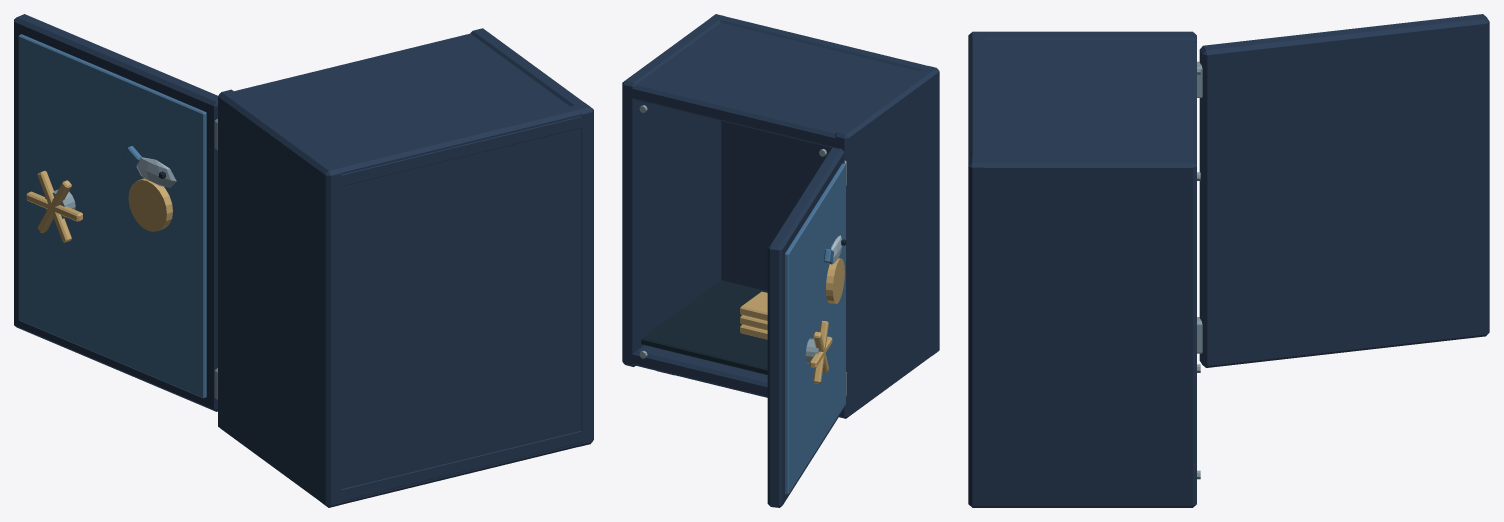
The model's file is token_vault_open.glb.
3 renders of one model, left to right at view 1: azimuth 30°, elevation 25°; view 2: azimuth 150°, elevation 25°; view 3: azimuth 270°, elevation 25°, orthographic. The views are drawn at different scales.
Parts seen in each view (by area): view 1: back, inset, left, top, door_panel, right, bottom, combination_dial, whale_badge, wheel_spoke; view 2: left, right, top, back, inset, door_panel, interior_floor, bottom, combination_dial, stored_token_note, wheel_spoke; view 3: door_panel, right, top, back, bottom, left.
Boxes of the visible parts, x1,y1,x2,y2 form: back: (319, 103, 592, 507); inset: (18, 34, 206, 398); left: (218, 89, 341, 507); top: (218, 33, 593, 188); door_panel: (14, 14, 217, 411); right: (470, 28, 593, 446); bottom: (234, 427, 593, 503); combination_dial: (128, 178, 172, 231); whale_badge: (136, 157, 176, 187); wheel_spoke: (37, 171, 71, 242); left: (835, 66, 939, 418); right: (622, 14, 724, 366); top: (622, 23, 939, 149); back: (711, 14, 939, 355); inset: (785, 163, 845, 494); door_panel: (767, 147, 844, 507); interior_floor: (641, 280, 767, 374); bottom: (622, 340, 939, 414); combination_dial: (826, 258, 844, 303); stored_token_note: (740, 291, 767, 321); wheel_spoke: (813, 320, 828, 383); door_panel: (1199, 14, 1489, 367); right: (968, 157, 1196, 507); top: (968, 40, 1196, 181); back: (969, 37, 986, 507); bottom: (968, 491, 1196, 503); left: (968, 31, 1196, 42).
Bounding box in the file's own units: 1.61 × 1.55 × 2.05.
